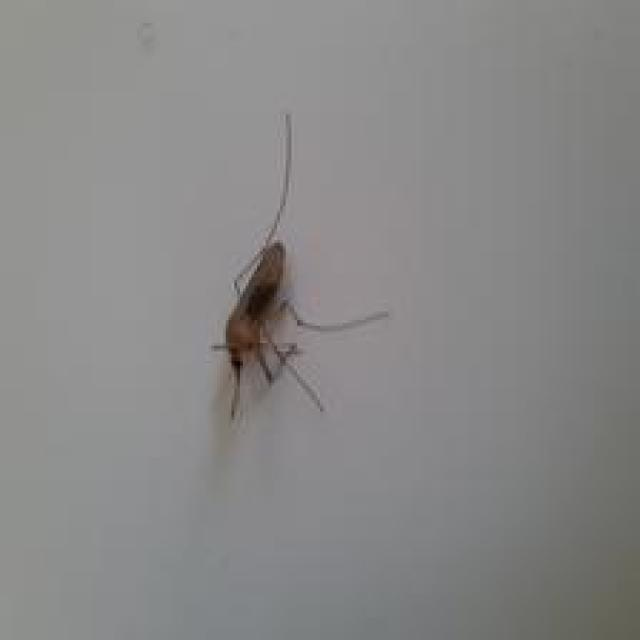Culex: (210, 110, 390, 427)
